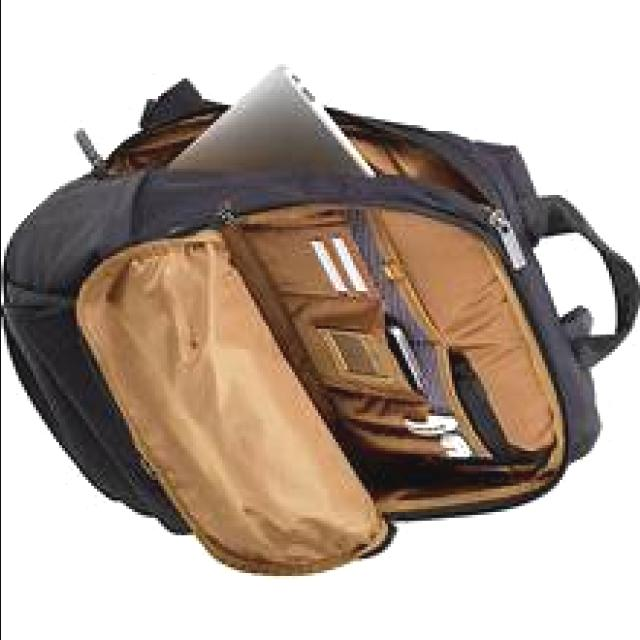backpack: (4, 68, 640, 577)
